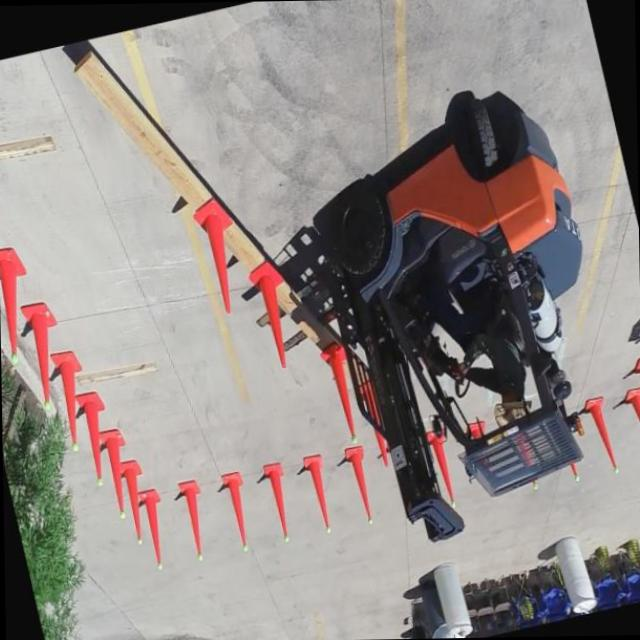driver: (416, 266, 546, 440)
forklift: (281, 65, 640, 554)
